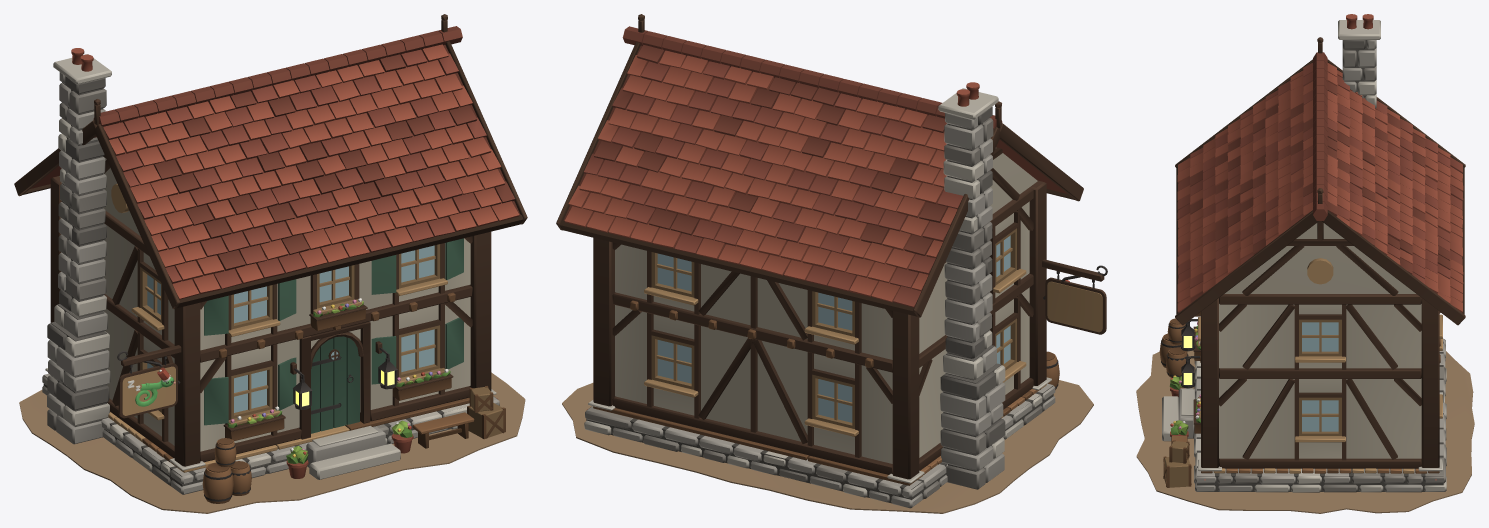
Rendered from tavern.glb.
The picture shows the model from 3 angles, left to right: view 1: azimuth 30°, elevation 25°; view 2: azimuth 150°, elevation 25°; view 3: azimuth 270°, elevation 25°; orthographic projection. The views are drawn at different scales.
Visible parts, largest first — view 1: stage_09_mesh, stage_08_mesh, stage_10_mesh, stage_06_mesh, stage_01_mesh, stage_05_mesh, stage_04_mesh, stage_12_mesh, stage_07_mesh, stage_02_mesh, stage_03_mesh, stage_11_mesh; view 2: stage_09_mesh, stage_06_mesh, stage_10_mesh, stage_01_mesh, stage_04_mesh, stage_08_mesh, stage_05_mesh, stage_02_mesh, stage_12_mesh, stage_03_mesh, stage_11_mesh; view 3: stage_09_mesh, stage_06_mesh, stage_01_mesh, stage_05_mesh, stage_02_mesh, stage_04_mesh, stage_08_mesh, stage_10_mesh, stage_12_mesh, stage_07_mesh, stage_03_mesh, stage_11_mesh.
Boxes of the visible parts, bbox=[...] form: stage_09_mesh: bbox=[14, 14, 527, 308]; stage_08_mesh: bbox=[131, 238, 463, 440]; stage_10_mesh: bbox=[47, 48, 111, 444]; stage_06_mesh: bbox=[103, 223, 470, 451]; stage_01_mesh: bbox=[19, 372, 525, 513]; stage_05_mesh: bbox=[104, 211, 472, 462]; stage_04_mesh: bbox=[45, 176, 496, 470]; stage_12_mesh: bbox=[118, 359, 505, 503]; stage_07_mesh: bbox=[306, 329, 400, 479]; stage_02_mesh: bbox=[42, 373, 499, 494]; stage_03_mesh: bbox=[108, 397, 469, 472]; stage_11_mesh: bbox=[117, 341, 397, 409]; stage_09_mesh: bbox=[556, 14, 1083, 317]; stage_06_mesh: bbox=[615, 201, 1029, 463]; stage_10_mesh: bbox=[938, 82, 1005, 489]; stage_01_mesh: bbox=[562, 380, 1093, 513]; stage_04_mesh: bbox=[588, 180, 1051, 483]; stage_08_mesh: bbox=[644, 228, 1026, 436]; stage_05_mesh: bbox=[612, 187, 1033, 474]; stage_02_mesh: bbox=[584, 383, 1055, 508]; stage_12_mesh: bbox=[1045, 274, 1106, 389]; stage_03_mesh: bbox=[593, 384, 1046, 485]; stage_11_mesh: bbox=[1042, 259, 1107, 299]; stage_09_mesh: bbox=[1175, 37, 1465, 325]; stage_06_mesh: bbox=[1219, 304, 1421, 460]; stage_01_mesh: bbox=[1136, 350, 1474, 513]; stage_05_mesh: bbox=[1200, 294, 1440, 468]; stage_02_mesh: bbox=[1194, 338, 1446, 492]; stage_04_mesh: bbox=[1198, 298, 1442, 471]; stage_08_mesh: bbox=[1193, 312, 1442, 442]; stage_10_mesh: bbox=[1338, 14, 1380, 108]; stage_12_mesh: bbox=[1159, 318, 1191, 487]; stage_07_mesh: bbox=[1162, 388, 1194, 441]; stage_03_mesh: bbox=[1201, 468, 1439, 473]; stage_11_mesh: bbox=[1181, 319, 1200, 388].
Bounding box in the file's own units: 11.1 × 9.5 × 8.64.
